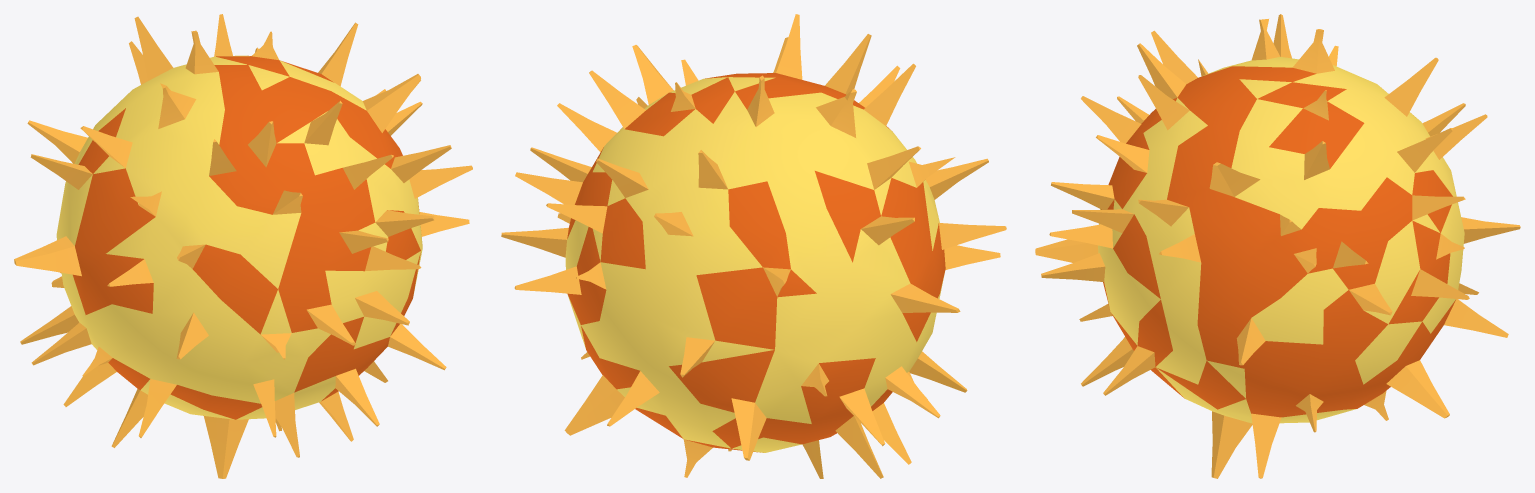
The model's file is sun-transformed.glb.
3 views of the same model, side by side, from view 1: azimuth 30°, elevation 25°; view 2: azimuth 150°, elevation 25°; view 3: azimuth 270°, elevation 25° (orthographic). The views are drawn at different scales.
Visible parts, largest first — view 1: Toy_Planet_8_Toy_Planets_0; view 2: Toy_Planet_8_Toy_Planets_0; view 3: Toy_Planet_8_Toy_Planets_0.
Part boxes in pixels (<box>): Toy_Planet_8_Toy_Planets_0: <box>14,14,472,478</box>; Toy_Planet_8_Toy_Planets_0: <box>501,14,1006,478</box>; Toy_Planet_8_Toy_Planets_0: <box>1035,14,1520,478</box>.
Bounding box in the file's own units: 2.65 × 2.5 × 2.65.
Materials: 1 (1 with a texture image).
